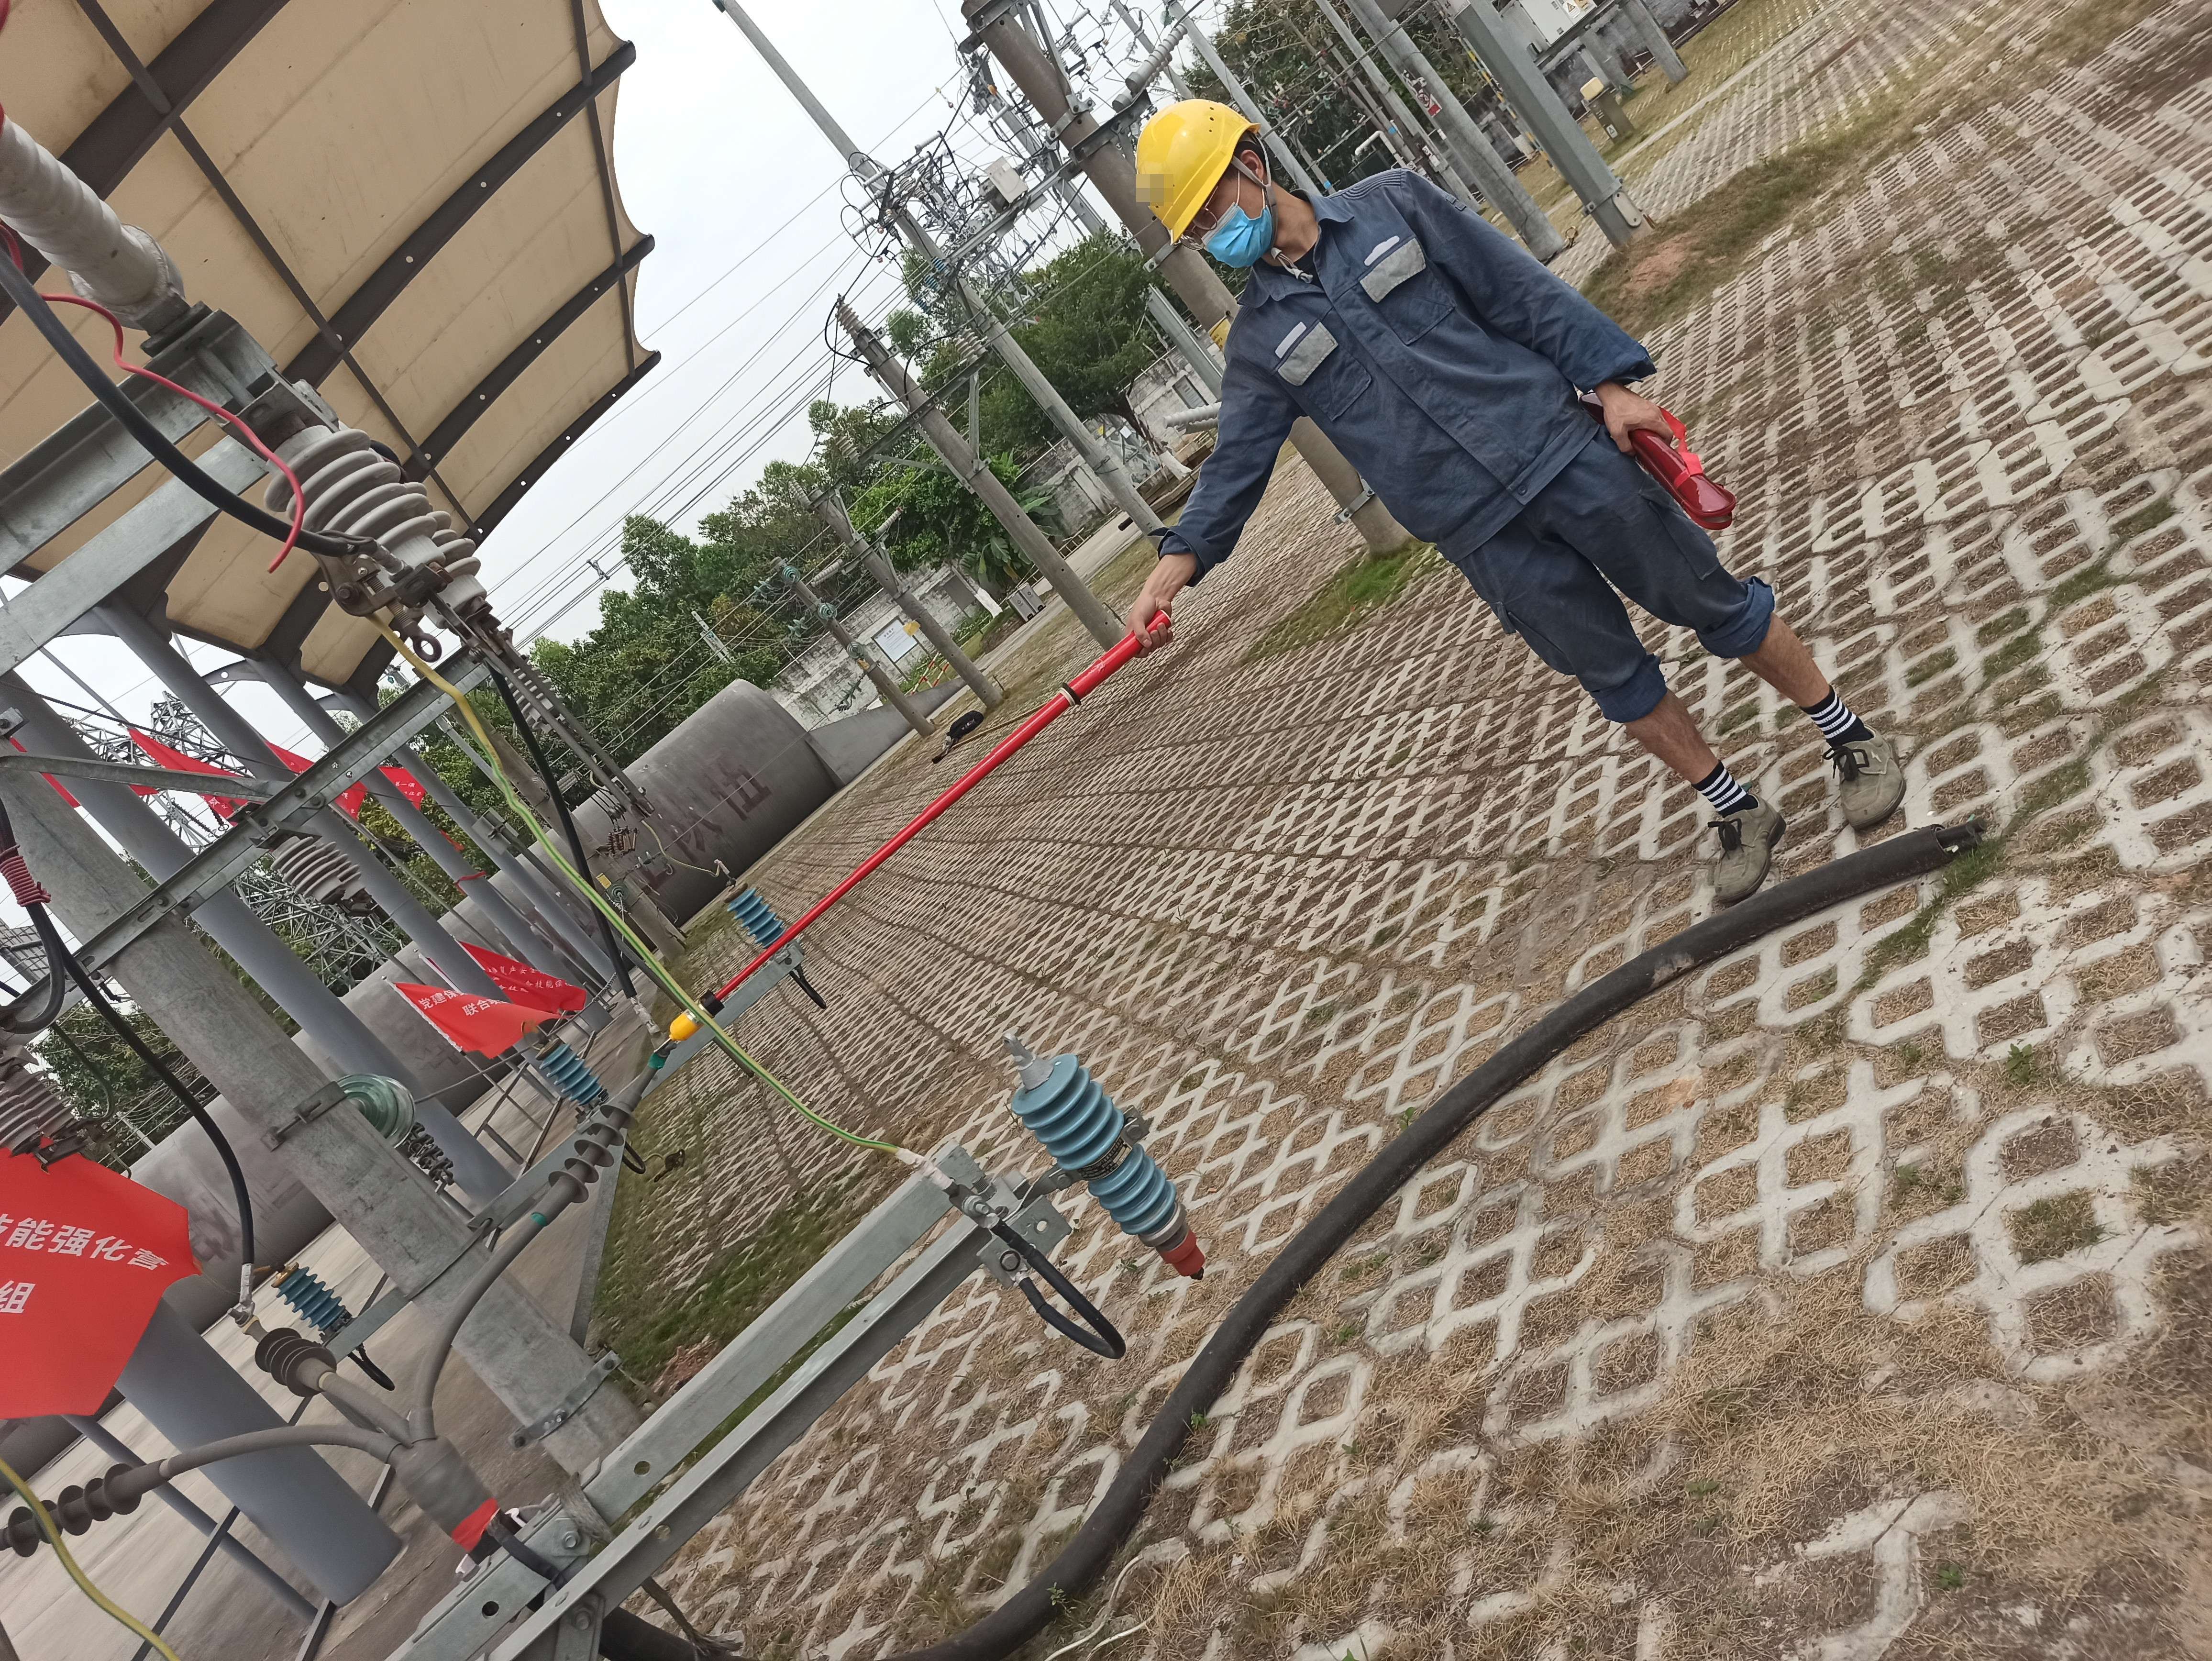downsuit: (1464, 454, 1786, 712)
upsuit: (1204, 187, 1605, 530)
wrongbottom: (1596, 658, 1724, 789)
